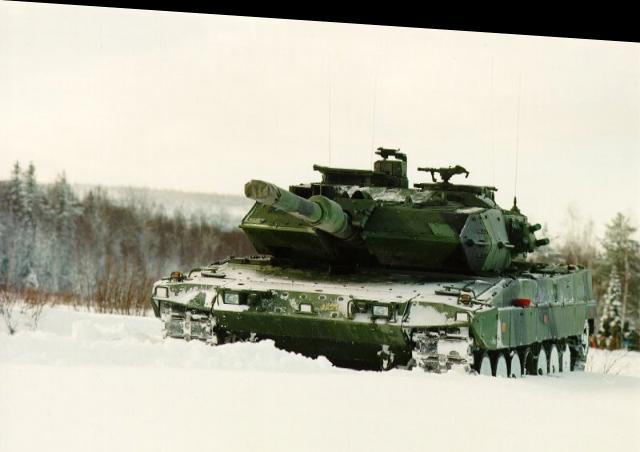tank: (166, 157, 590, 372)
